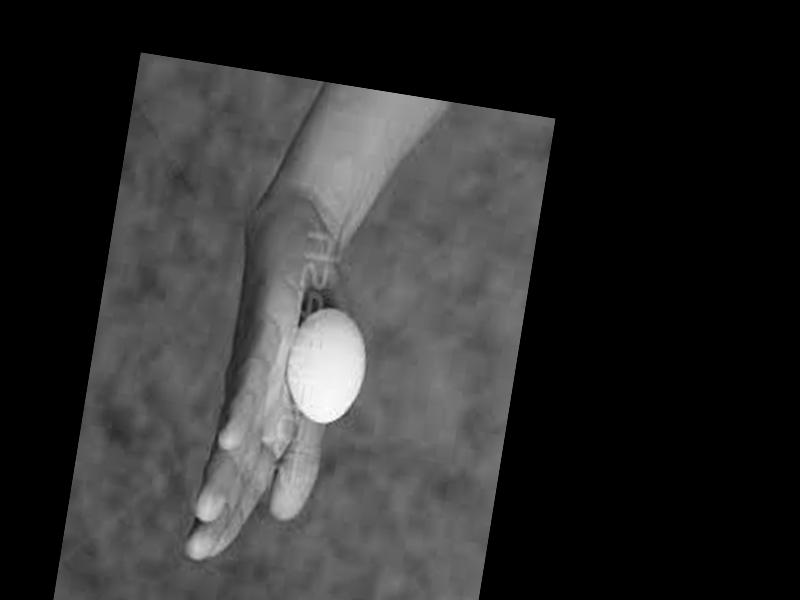Eggs: (279, 302, 375, 428)
